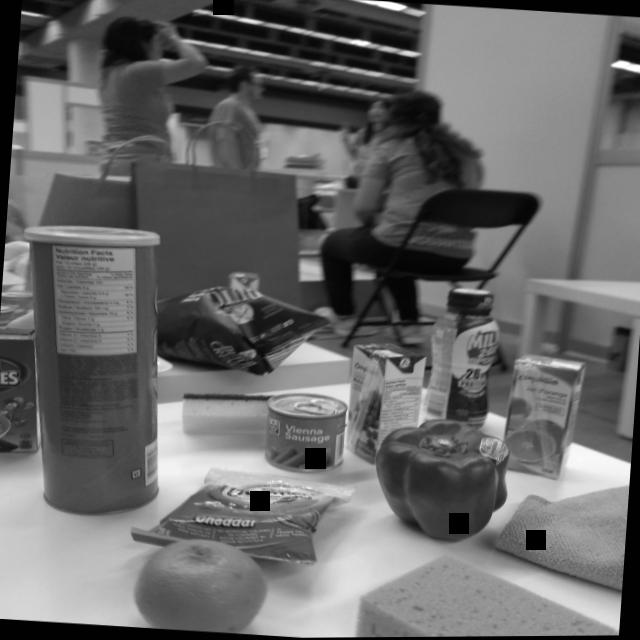chocolate_drink: (424, 282, 507, 433)
cloth_opl: (492, 473, 630, 596)
crackers: (162, 464, 351, 568)
grape_juice: (339, 336, 426, 464)
orange: (131, 533, 274, 636)
orange_juice: (497, 348, 585, 483)
paprika: (368, 412, 513, 553)
potato_chips: (145, 276, 338, 384)
pringles: (6, 218, 182, 522)
sausages: (265, 388, 353, 473)
scrubby: (177, 390, 274, 438)
sponge_opl: (352, 544, 623, 638)
